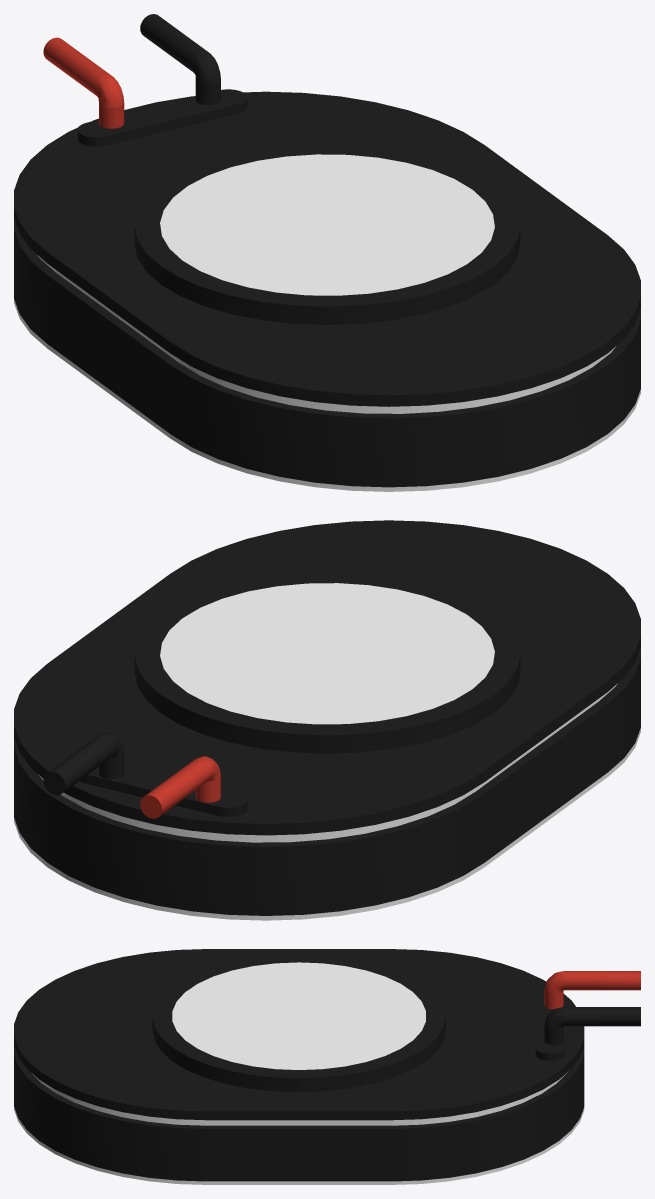
File: ada-3923.glb
The picture shows the model from 3 angles, top to bottom: view 1: azimuth 30°, elevation 25°; view 2: azimuth 150°, elevation 25°; view 3: azimuth 270°, elevation 25°; orthographic projection. The views are drawn at different scales.
Parts seen in each view (by area): view 1: 0_0_0_0, 0.9166666666666666_0.9166666666666666_0.9166666666666666_0.8, 0.5833333333333334_0_0_0; view 2: 0_0_0_0, 0.9166666666666666_0.9166666666666666_0.9166666666666666_0.8, 0.5833333333333334_0_0_0; view 3: 0_0_0_0, 0.9166666666666666_0.9166666666666666_0.9166666666666666_0.8, 0.5833333333333334_0_0_0.
Boxes of the visible parts, <box> form: 0_0_0_0: <box>14,14,640,487</box>; 0.9166666666666666_0.9166666666666666_0.9166666666666666_0.8: <box>14,154,640,491</box>; 0.5833333333333334_0_0_0: <box>43,37,124,128</box>; 0_0_0_0: <box>14,520,640,915</box>; 0.9166666666666666_0.9166666666666666_0.9166666666666666_0.8: <box>14,583,640,920</box>; 0.5833333333333334_0_0_0: <box>140,756,220,818</box>; 0_0_0_0: <box>14,949,640,1181</box>; 0.9166666666666666_0.9166666666666666_0.9166666666666666_0.8: <box>14,962,584,1184</box>; 0.5833333333333334_0_0_0: <box>544,971,640,1009</box>.
Size of the model in its own units: 1.99 by 0.6499 by 3.25.
